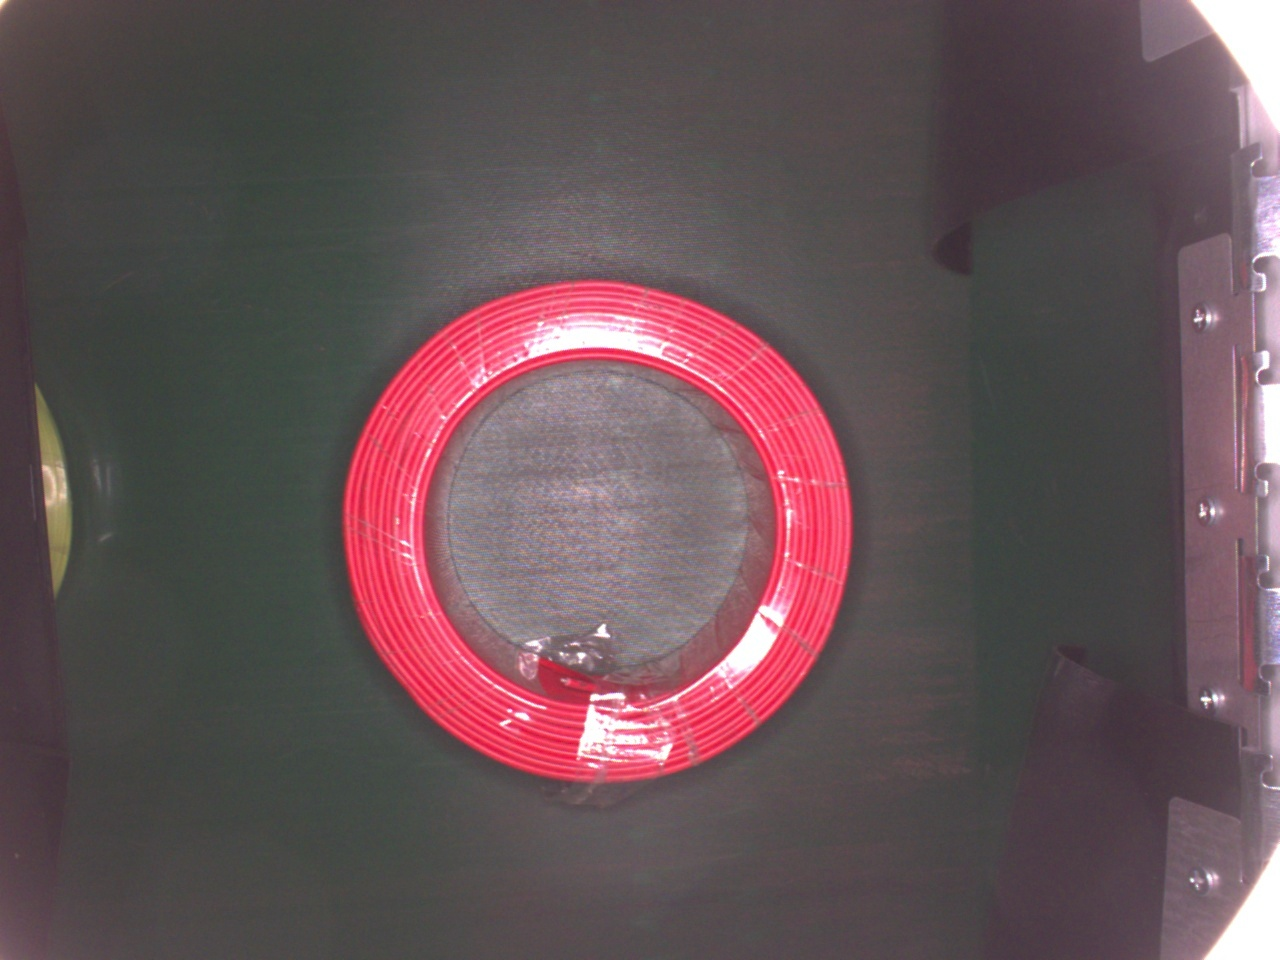red: (342, 278, 854, 783)
